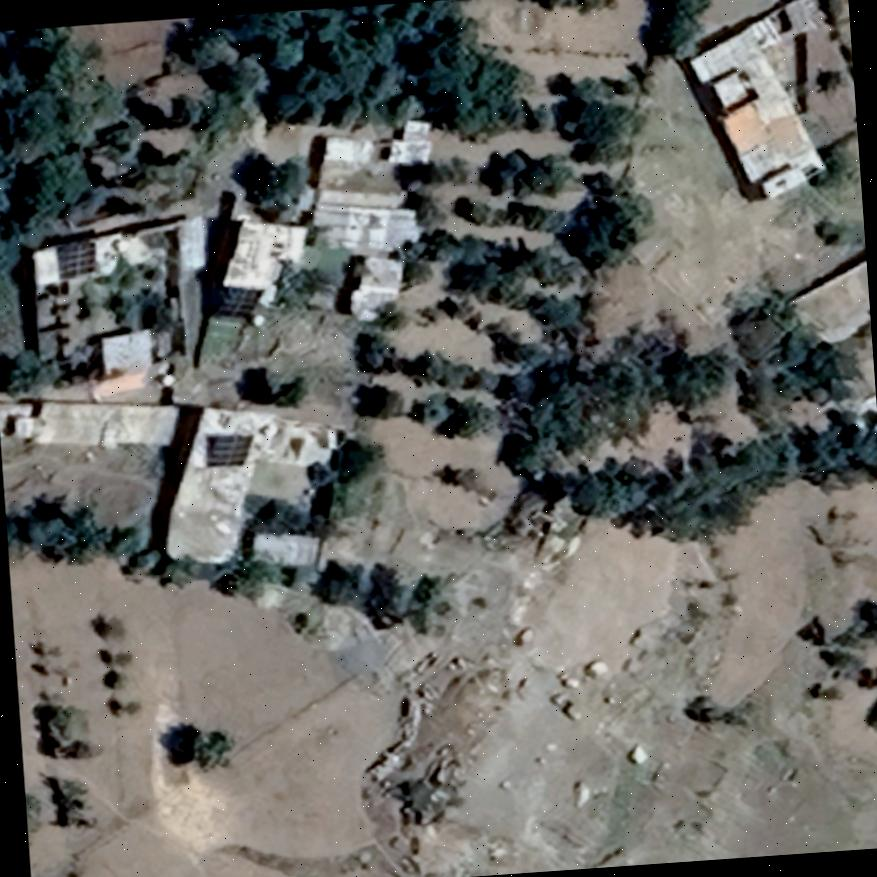Solarpanel: (209, 276, 269, 323), (198, 427, 258, 470), (51, 234, 100, 280)
